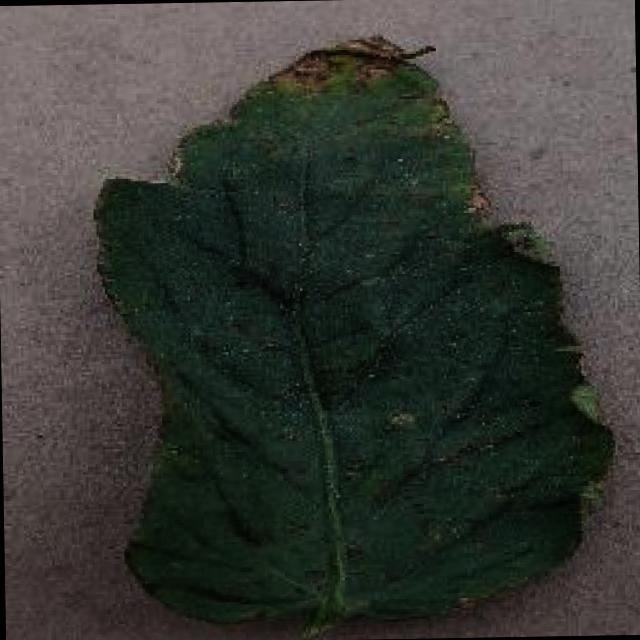Tomato bacterial spot leaf: (84, 22, 620, 640)
